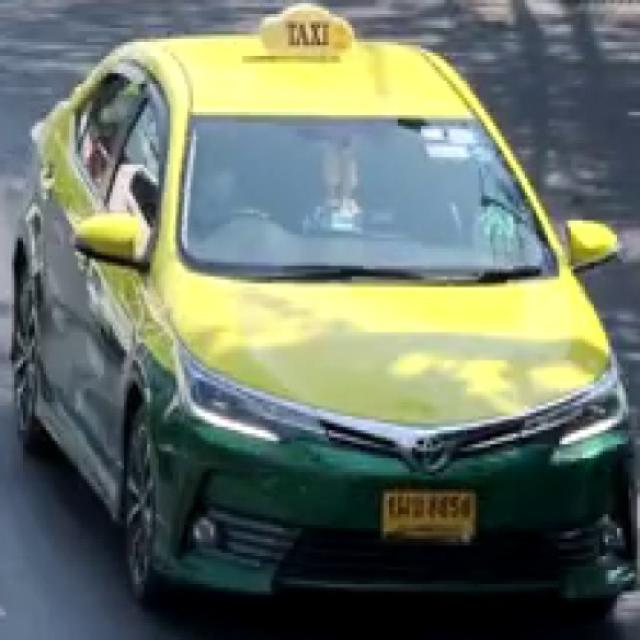plate: (381, 491, 478, 541)
